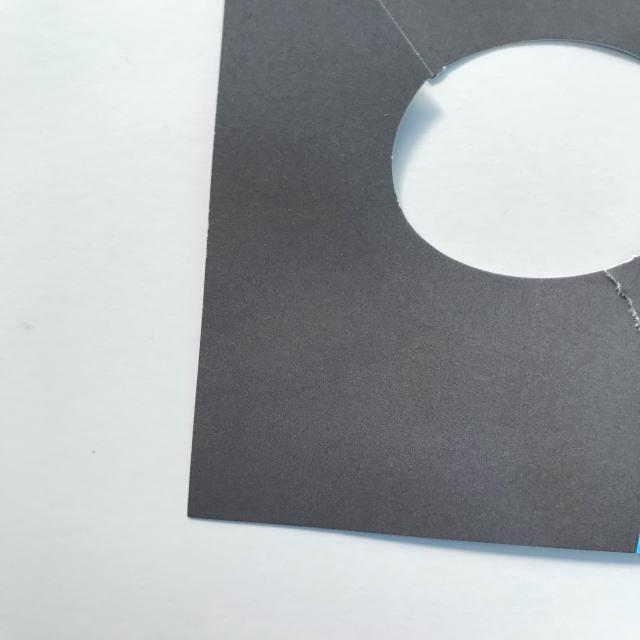paper: (183, 0, 640, 555)
